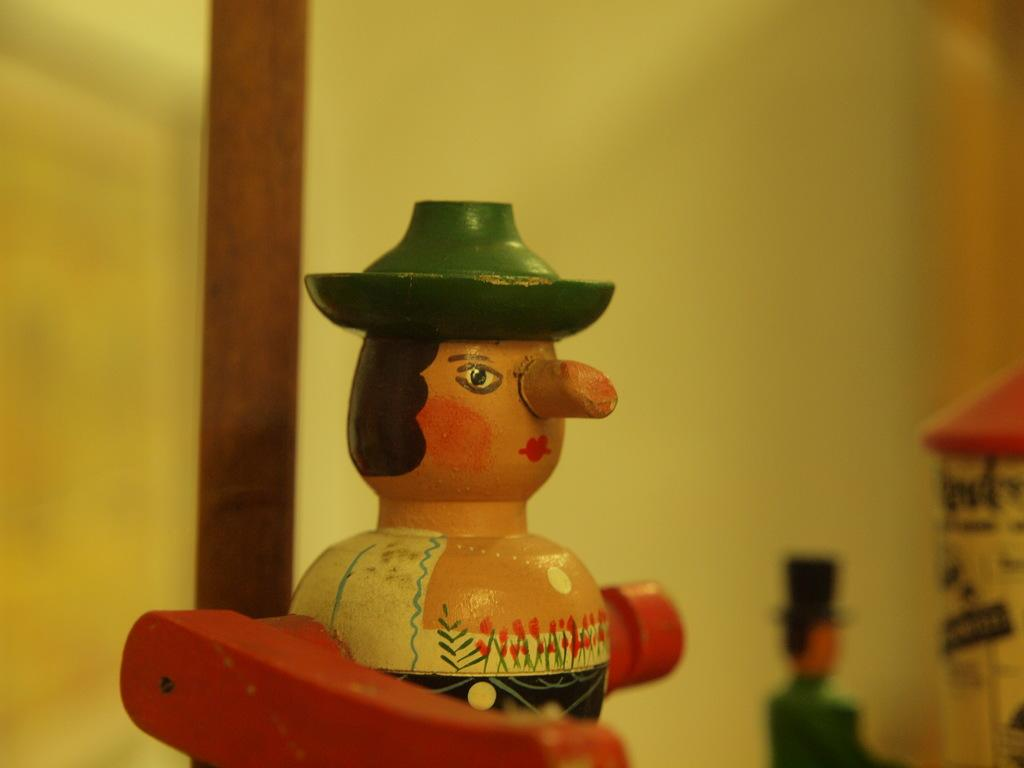Hat: (306, 201, 616, 338), (769, 552, 850, 624)
